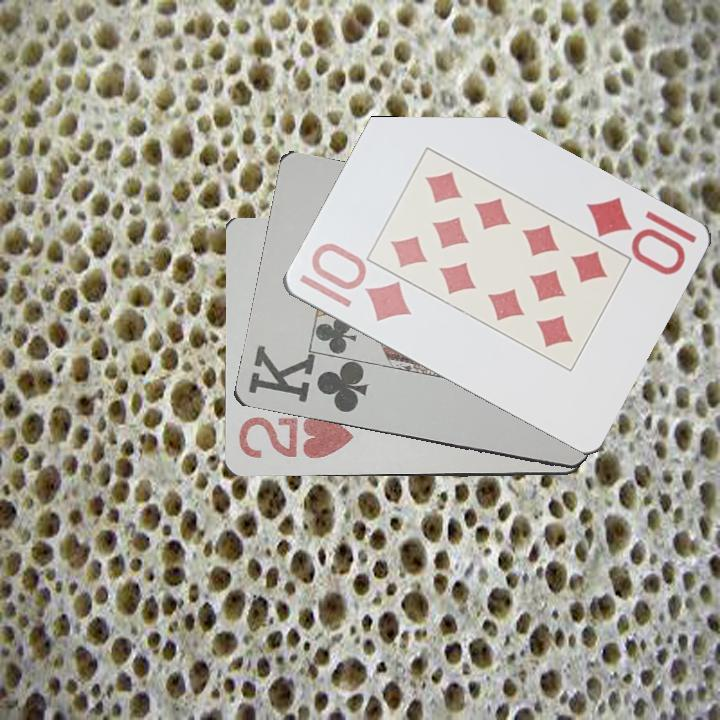2h: (234, 413, 356, 462)
Kc: (244, 344, 375, 416)
Td: (295, 241, 415, 325), (582, 193, 699, 278)
